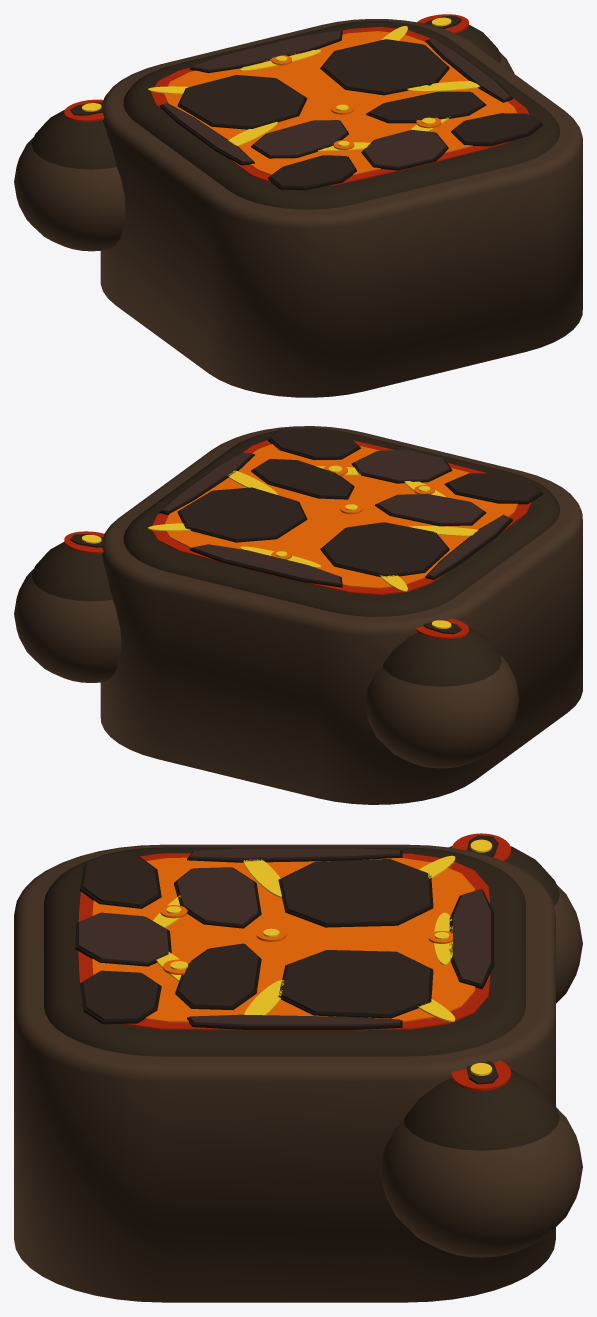
Rendered from body_estampa_lava.fbx.
3 renders of one model, top to bottom at view 1: azimuth 30°, elevation 25°; view 2: azimuth 150°, elevation 25°; view 3: azimuth 270°, elevation 25°, orthographic. The views are drawn at different scales.
Parts seen in each view (by area): view 1: body_estampa_lava_corpo, body_estampa_lava_corpo_neon, body_estampa_lava_mao_esq, body_estampa_lava_mao; view 2: body_estampa_lava_corpo, body_estampa_lava_mao_esq, body_estampa_lava_corpo_neon, body_estampa_lava_mao; view 3: body_estampa_lava_corpo, body_estampa_lava_mao, body_estampa_lava_corpo_neon, body_estampa_lava_mao_esq.
Part boxes in pixels (<box>): body_estampa_lava_corpo: <box>100,19,582,397</box>; body_estampa_lava_corpo_neon: <box>148,26,529,186</box>; body_estampa_lava_mao_esq: <box>14,99,125,251</box>; body_estampa_lava_mao: <box>417,14,514,73</box>; body_estampa_lava_corpo: <box>100,426,582,804</box>; body_estampa_lava_mao_esq: <box>365,618,519,768</box>; body_estampa_lava_corpo_neon: <box>148,440,531,595</box>; body_estampa_lava_mao: <box>14,531,121,682</box>; body_estampa_lava_corpo: <box>14,844,555,1302</box>; body_estampa_lava_mao: <box>380,1060,582,1257</box>; body_estampa_lava_corpo_neon: <box>78,853,490,1030</box>; body_estampa_lava_mao_esq: <box>449,833,582,1003</box>.
Bounding box in the file's own units: 5.4 × 2.06 × 4.2.
Materials: 1 (1 with a texture image).
